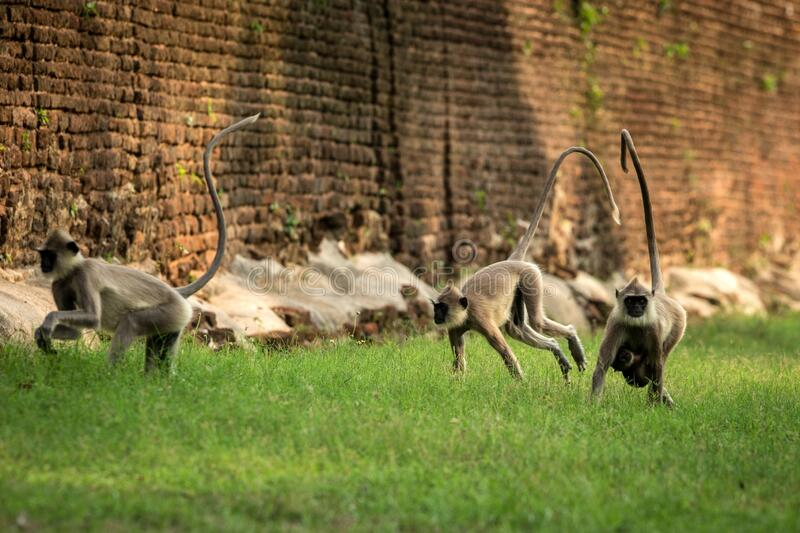monkey: (31, 107, 281, 400), (424, 134, 622, 411), (577, 122, 696, 421)
